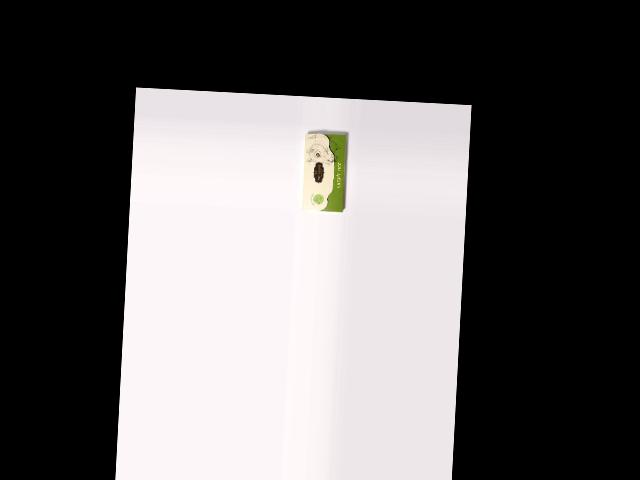chocolate: (300, 131, 348, 213)
